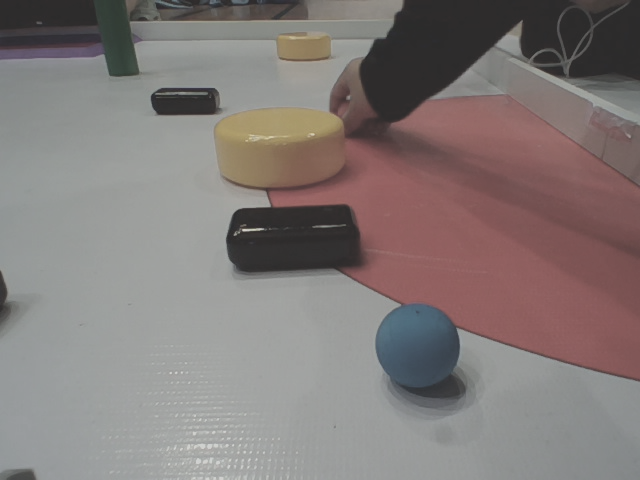black: (228, 207, 363, 277), (150, 82, 224, 114)
blue: (370, 297, 468, 397)
kuang: (1, 25, 146, 60)
yellow: (207, 106, 353, 197), (272, 29, 334, 63)
zhuzi: (93, 1, 139, 79)
